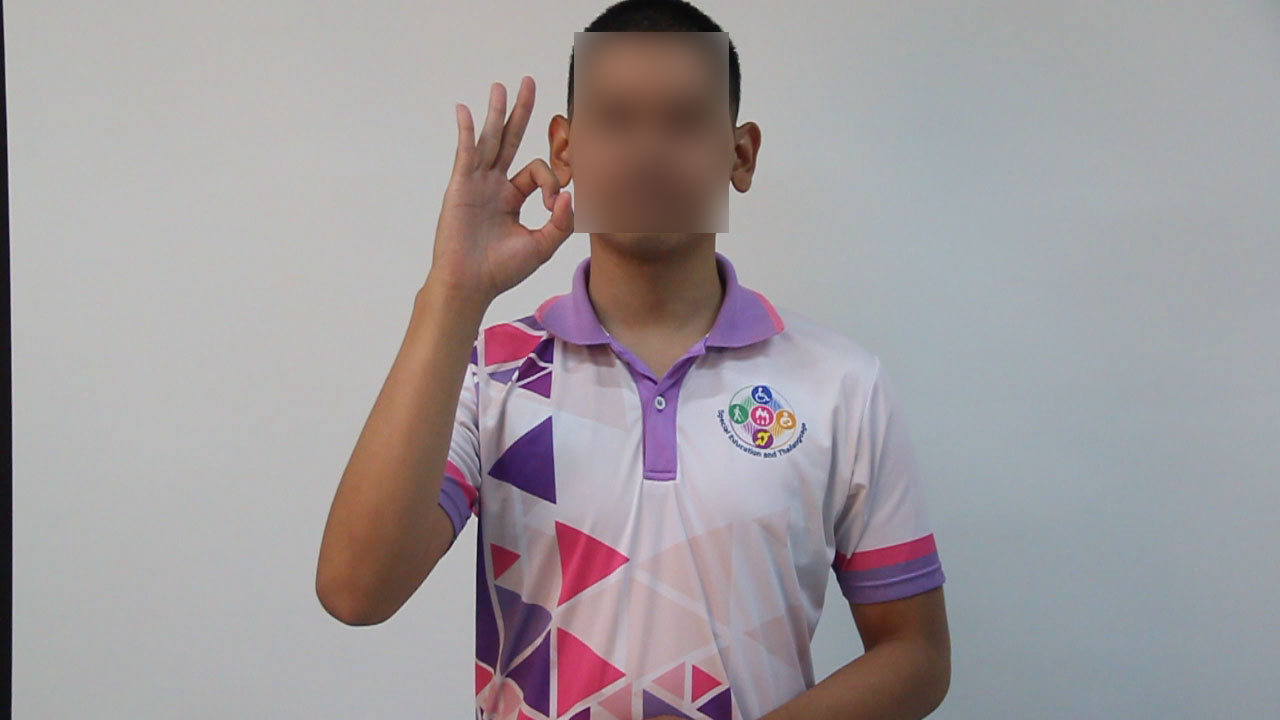for: (399, 62, 584, 315)
